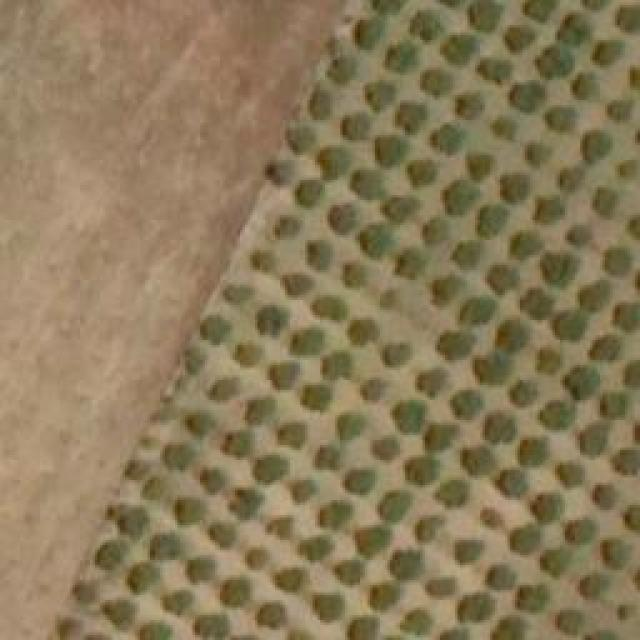Tree: (353, 528, 393, 558), (405, 455, 440, 488), (535, 48, 573, 78), (227, 488, 265, 518), (440, 35, 480, 63), (558, 15, 591, 48), (410, 10, 443, 43), (545, 253, 578, 286), (255, 305, 288, 338), (450, 388, 483, 421), (457, 592, 495, 620), (378, 493, 413, 523), (103, 600, 138, 630), (470, 0, 503, 30), (255, 453, 285, 486), (128, 565, 161, 595), (200, 315, 233, 345), (393, 400, 423, 433), (483, 413, 516, 443), (510, 523, 540, 556), (520, 290, 555, 318), (478, 355, 513, 383), (160, 442, 195, 470), (310, 592, 345, 620), (298, 532, 333, 560), (193, 612, 228, 640), (290, 327, 325, 355), (433, 477, 468, 505), (515, 582, 550, 610), (538, 400, 573, 428), (475, 58, 513, 83), (220, 430, 253, 458), (185, 412, 218, 440), (173, 497, 206, 525), (275, 565, 308, 593), (268, 362, 301, 390), (433, 278, 463, 308), (440, 330, 470, 360), (498, 320, 528, 350), (335, 410, 365, 440), (320, 350, 350, 380), (300, 383, 330, 413), (415, 368, 445, 398), (498, 468, 528, 498), (540, 545, 570, 575), (318, 503, 353, 528), (368, 585, 403, 610), (463, 448, 498, 473), (490, 617, 527, 640), (355, 20, 383, 50), (325, 57, 355, 85), (447, 183, 475, 213), (350, 317, 380, 345), (245, 397, 275, 425), (333, 557, 363, 585), (150, 532, 180, 560), (117, 510, 145, 540), (602, 540, 630, 570), (533, 495, 563, 523), (385, 45, 418, 70), (385, 198, 418, 223), (555, 313, 588, 338), (313, 295, 346, 320), (205, 523, 238, 548), (425, 425, 458, 450), (612, 2, 640, 30), (585, 132, 613, 160), (377, 137, 405, 165), (320, 150, 348, 178), (567, 367, 595, 395), (277, 422, 305, 450), (390, 550, 418, 578), (220, 577, 248, 605), (510, 377, 538, 405), (463, 300, 496, 323), (505, 25, 535, 50), (350, 173, 380, 198), (513, 235, 543, 260), (163, 593, 193, 618), (95, 543, 125, 568), (380, 340, 410, 365), (520, 438, 545, 468), (455, 538, 485, 563), (523, 0, 558, 20), (512, 83, 540, 108), (397, 105, 425, 130), (363, 225, 388, 253), (477, 208, 505, 233), (583, 282, 608, 310), (343, 260, 368, 288), (612, 303, 640, 328), (315, 445, 343, 470), (415, 515, 443, 540), (558, 607, 583, 635), (580, 425, 605, 453), (488, 268, 518, 291), (283, 273, 313, 296), (590, 335, 620, 358), (400, 610, 430, 633), (208, 378, 238, 401), (565, 520, 595, 543), (422, 70, 450, 93), (435, 128, 463, 151), (345, 470, 373, 493), (235, 343, 263, 366), (595, 38, 620, 63), (503, 175, 528, 200), (333, 205, 358, 230), (398, 253, 423, 278), (293, 478, 318, 503), (200, 468, 225, 493), (260, 603, 285, 628), (360, 378, 385, 403), (488, 563, 513, 588), (578, 573, 603, 598), (347, 617, 374, 640), (310, 240, 330, 270), (263, 518, 293, 538), (425, 578, 455, 598), (368, 85, 393, 108), (413, 163, 436, 188), (290, 128, 315, 151), (538, 198, 563, 221), (455, 245, 480, 268), (605, 250, 630, 273), (373, 438, 398, 461), (188, 558, 213, 581), (73, 583, 96, 608), (615, 450, 640, 473), (595, 483, 618, 508), (547, 108, 575, 128), (267, 163, 295, 183), (543, 347, 563, 375), (185, 347, 205, 375), (222, 285, 250, 305), (375, 0, 409, 16), (310, 88, 328, 118), (140, 622, 170, 640), (470, 155, 493, 178), (278, 215, 301, 238), (530, 140, 550, 165), (617, 600, 639, 622), (575, 75, 598, 95), (423, 220, 443, 243), (255, 250, 278, 270), (143, 478, 166, 498), (560, 463, 580, 486), (603, 395, 626, 415), (595, 190, 613, 215), (622, 213, 640, 238), (610, 102, 633, 120), (58, 620, 81, 638), (480, 507, 503, 525), (460, 95, 480, 115), (348, 118, 368, 138), (627, 60, 640, 90), (495, 120, 513, 140), (560, 170, 580, 188), (300, 183, 318, 203), (245, 550, 265, 568), (122, 458, 140, 478), (625, 508, 640, 531), (625, 363, 640, 386), (380, 290, 398, 308), (570, 228, 590, 243), (623, 163, 638, 178)
